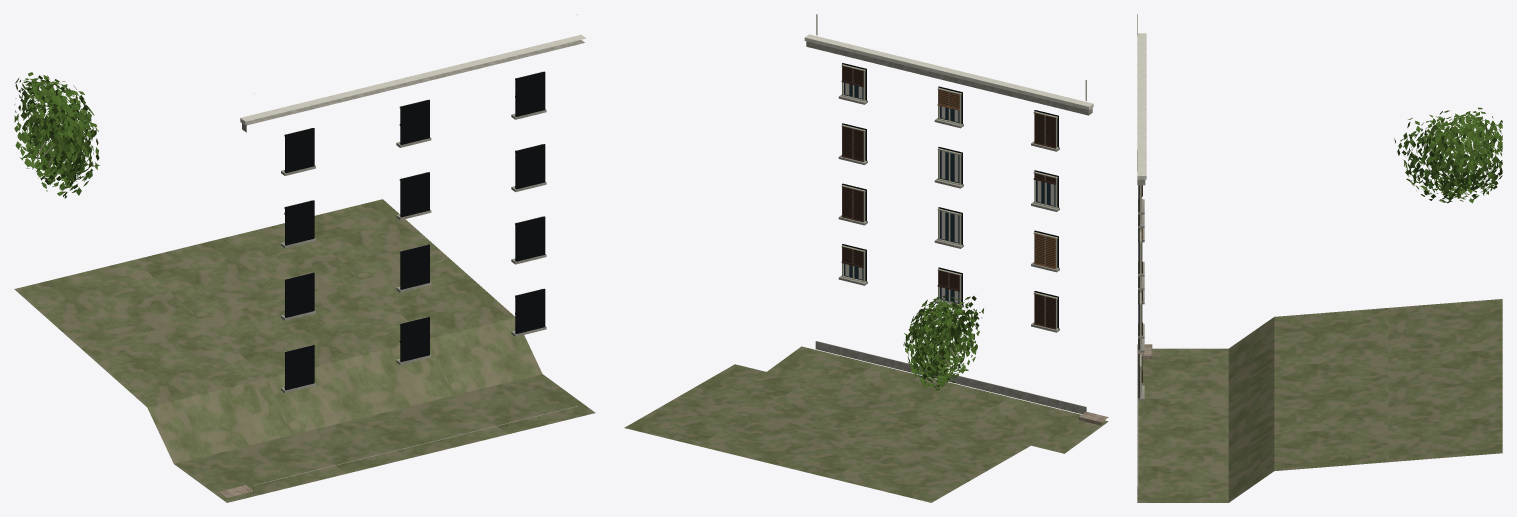
The picture shows the model from 3 angles, left to right: view 1: azimuth 30°, elevation 25°; view 2: azimuth 150°, elevation 25°; view 3: azimuth 270°, elevation 25°; orthographic projection. The views are drawn at different scales.
Bounding box in the file's own units: 16 × 16.71 × 16.
12 materials, 6 textured.
